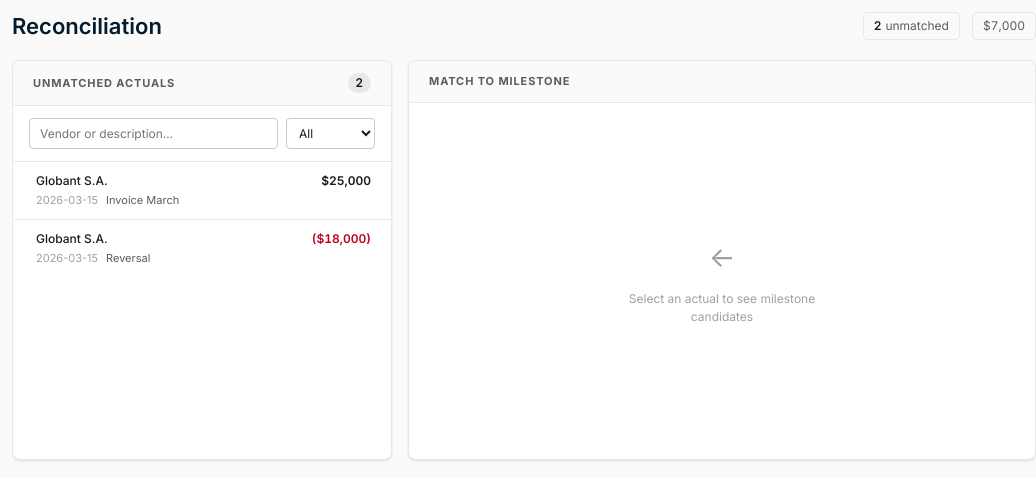
ReconcileWorkspace › filters actuals by description text
This screenshot has width=1036, height=478.
Expected: the text "Invoice March" is shown, [106,192,179,208]
Expected: the text "Reversal" is shown, [106,250,150,266]
Type "Invoice" into the field with placeholder "Vendor or description…" at (154, 134), box [29,118,278,149]
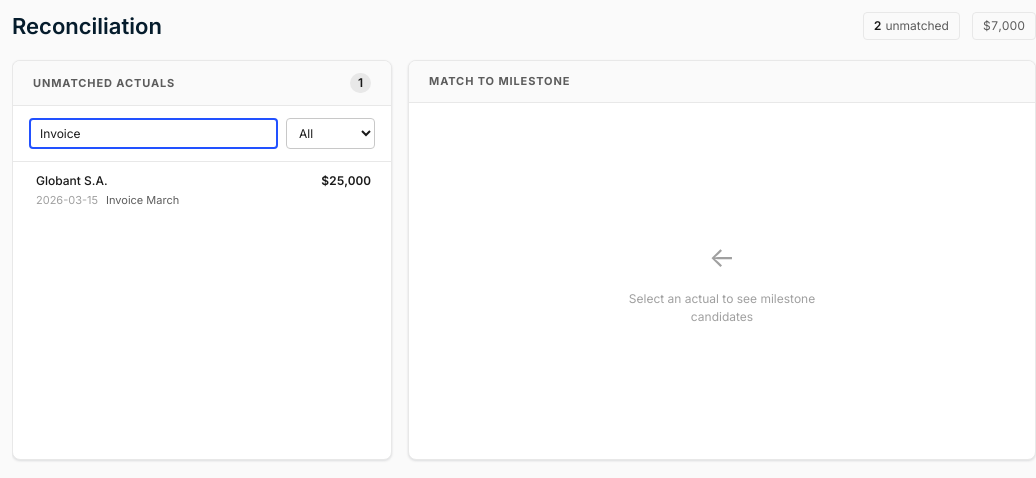
Expected: the text "Invoice March" is shown, [106,192,179,208]
Result: the button "Reversal" is gone
